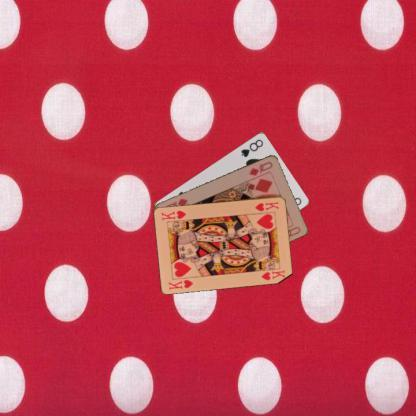8s: (238, 136, 264, 158)
Kh: (166, 276, 195, 290), (252, 198, 280, 212)
Qd: (247, 159, 274, 177)
